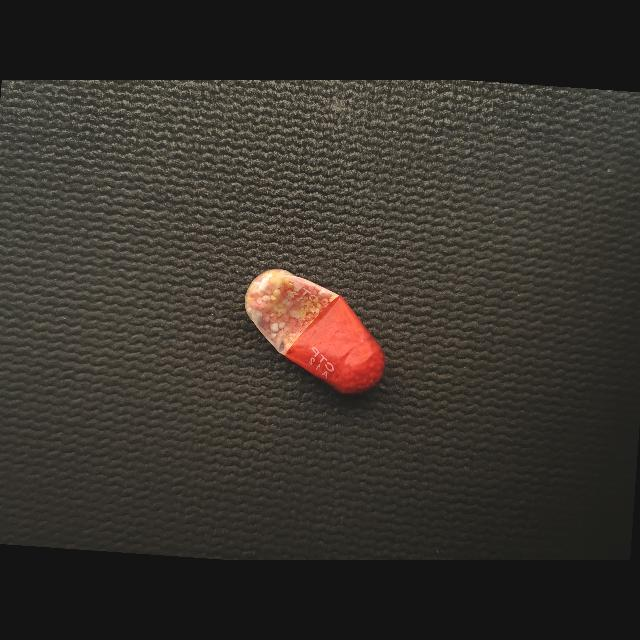Defective Capsule: (245, 269, 385, 394)
